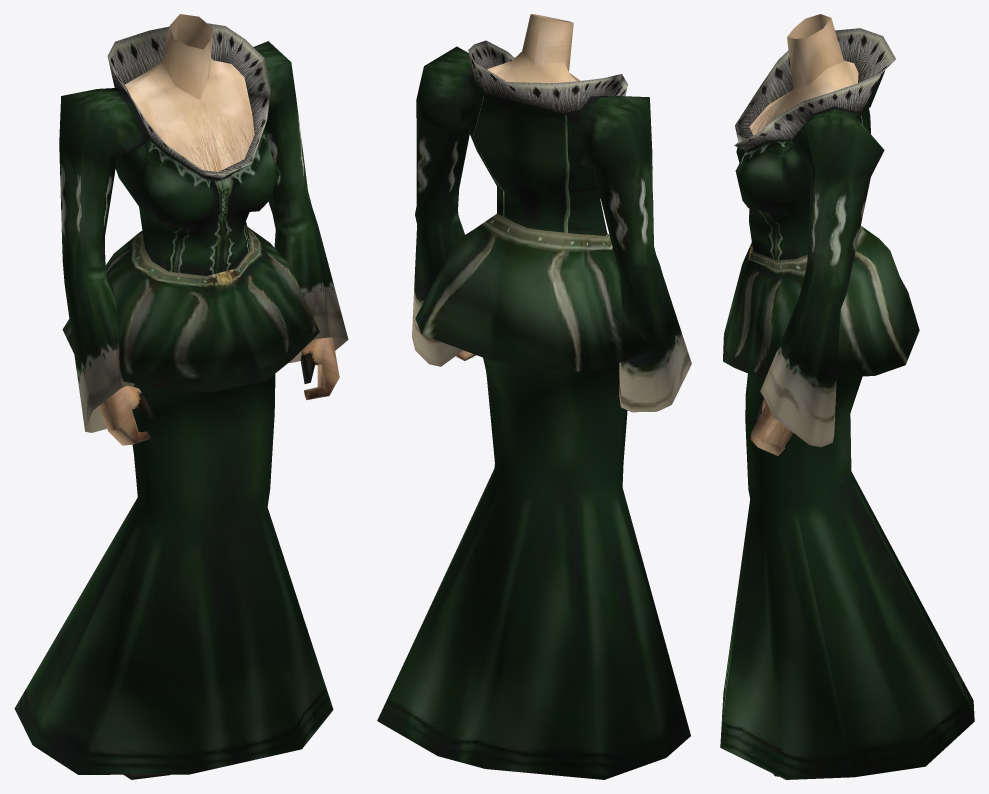
The model's file is ARMOR_VLKBABE_H2.glb.
3 renders of one model, left to right at view 1: azimuth 30°, elevation 25°; view 2: azimuth 150°, elevation 25°; view 3: azimuth 270°, elevation 25°, orthographic.
Parts seen in each view (by area): view 1: ARMOR_VLKBABE_H2; view 2: ARMOR_VLKBABE_H2; view 3: ARMOR_VLKBABE_H2.
Boxes of the visible parts, box(x1,y1,x2,y2) form: ARMOR_VLKBABE_H2: box(14, 14, 348, 779); ARMOR_VLKBABE_H2: box(377, 14, 691, 779); ARMOR_VLKBABE_H2: box(720, 14, 974, 779).
Size of the model in its own units: 0.6642 by 1.66 by 0.5338.
Materials: 2 (2 with a texture image).
